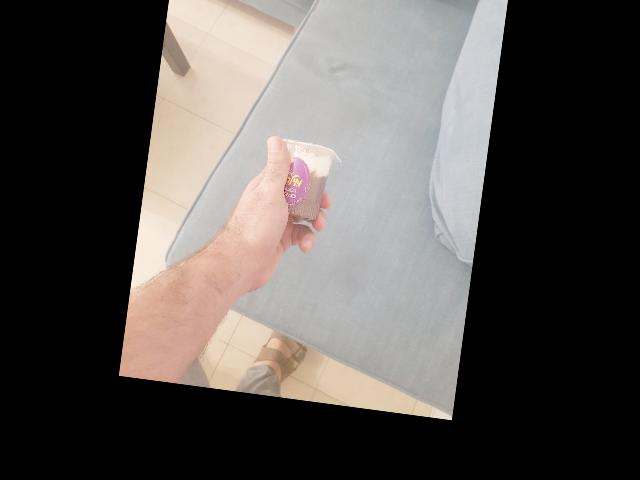milky: (340, 110, 426, 176)
